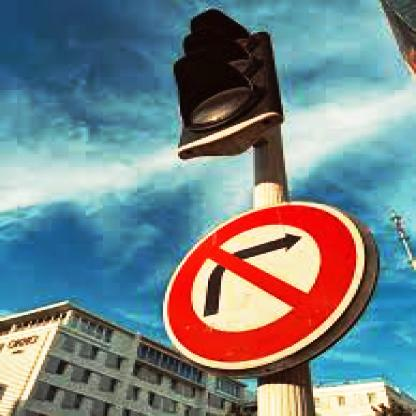No right turn: (164, 200, 373, 378)
